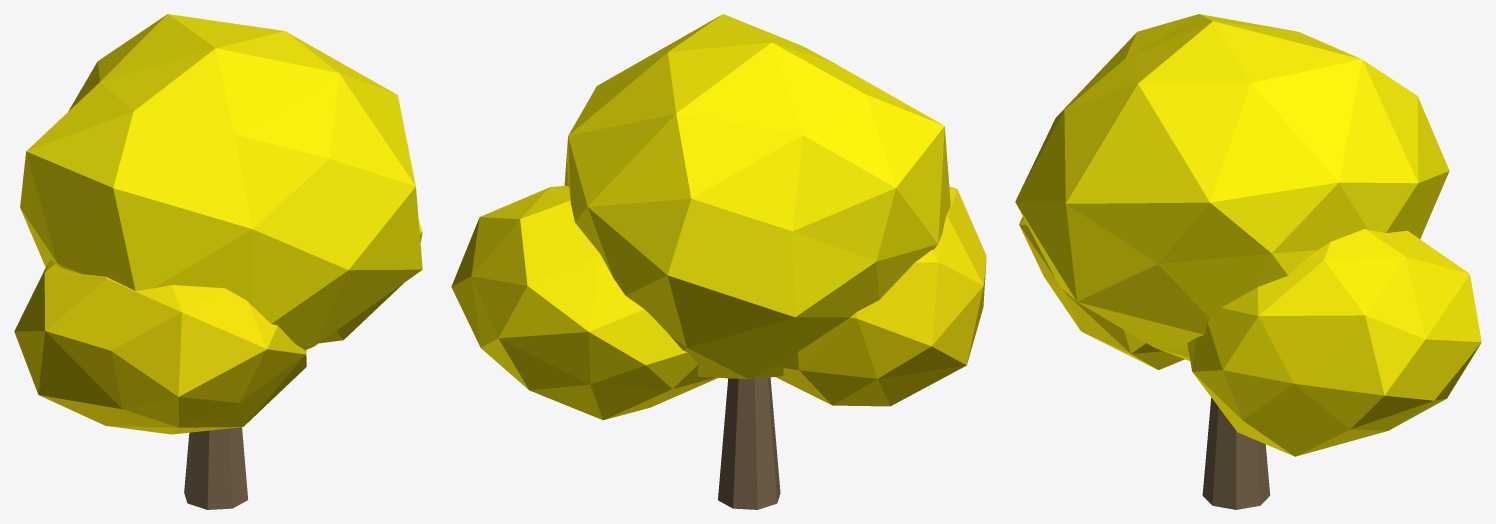
3 renders of one model, left to right at view 1: azimuth 30°, elevation 25°; view 2: azimuth 150°, elevation 25°; view 3: azimuth 270°, elevation 25°, orthographic. The views are drawn at different scales.
Visible parts, largest first — view 1: node (×4); view 2: node (×4); view 3: node (×4).
Part boxes in pixels (x1,y1,x2,y2): node (×4): (14, 14, 422, 509); node (×4): (451, 14, 986, 509); node (×4): (1015, 14, 1481, 509).
Bounding box in the file's own units: 1.71 × 1.71 × 1.54.
